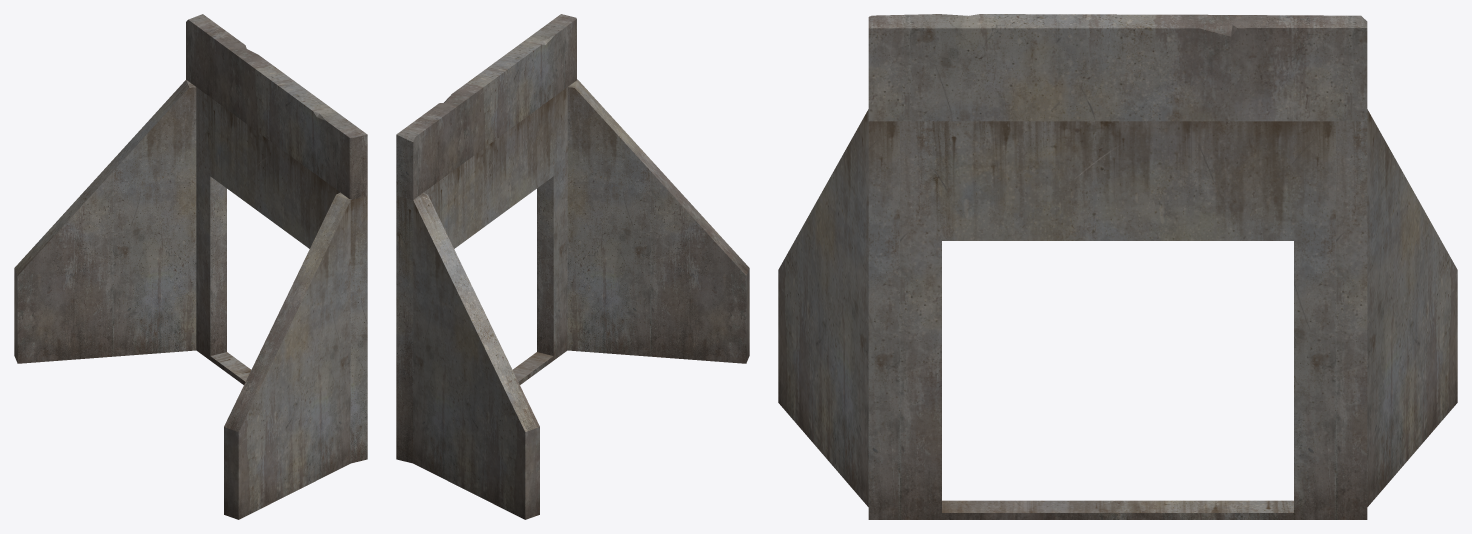
Rendered from bunkerEntrance02.FBX.
The picture shows the model from 3 angles, left to right: view 1: azimuth 30°, elevation 25°; view 2: azimuth 150°, elevation 25°; view 3: azimuth 270°, elevation 25°; orthographic projection. The views are drawn at different scales.
Parts seen in each view (by area): view 1: bunkerEntrance02; view 2: bunkerEntrance02; view 3: bunkerEntrance02.
Part boxes in pixels (<box>): bunkerEntrance02: <box>14,14,367,519</box>; bunkerEntrance02: <box>396,14,749,519</box>; bunkerEntrance02: <box>778,14,1457,519</box>.
Bounding box in the file's own units: 196 × 371 × 463.
